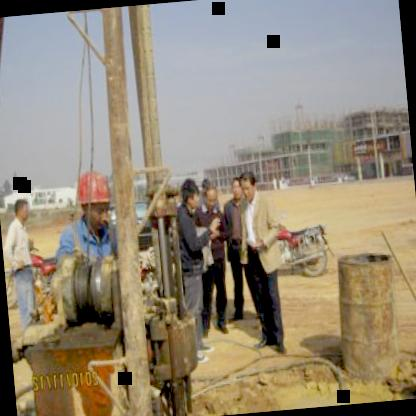head: (179, 176, 202, 215), (238, 170, 260, 202), (12, 196, 30, 228), (202, 182, 219, 211), (229, 176, 243, 203)
helmet: (76, 166, 114, 233)
